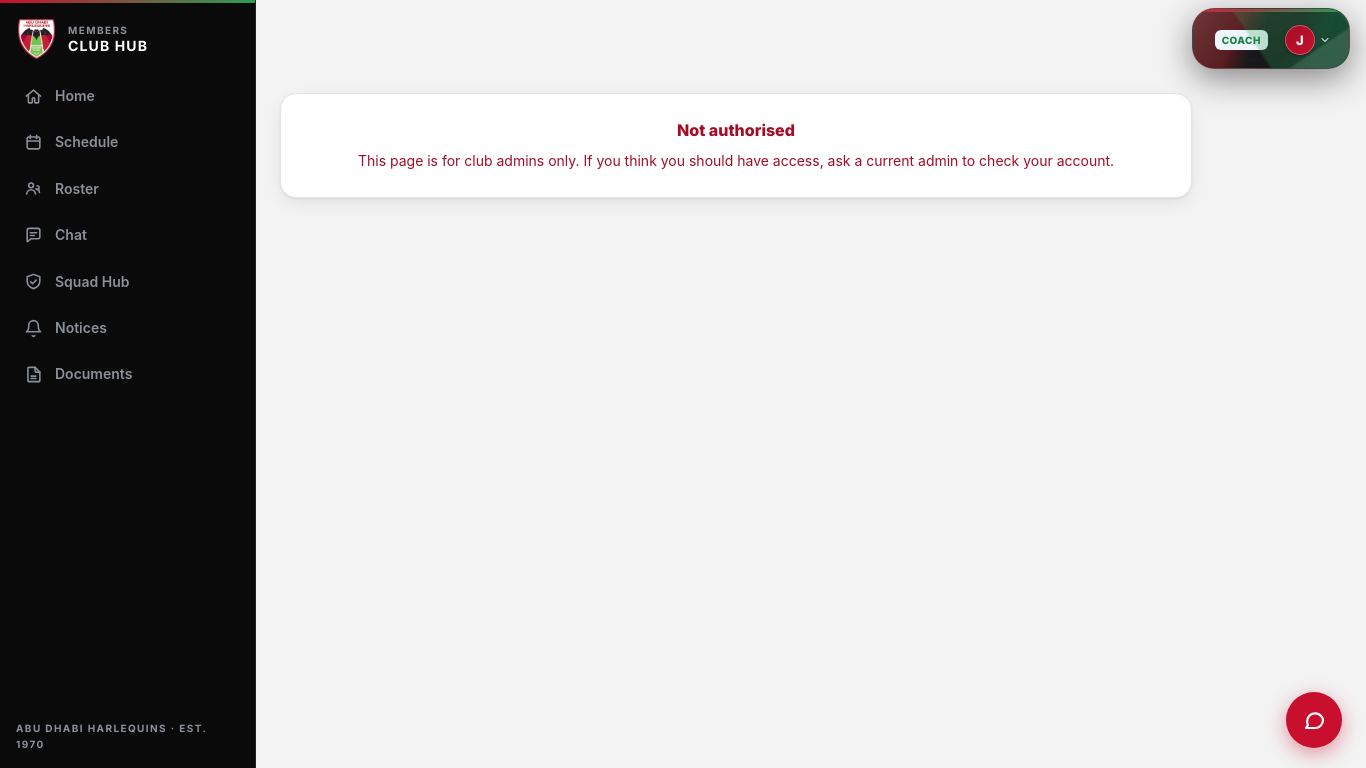
Scenario: View as, reached through the account menu › is offered to an active coach — parent persona, own squad only
Click the button with test id "account-button": [1310, 40] box [1282, 22, 1337, 58]
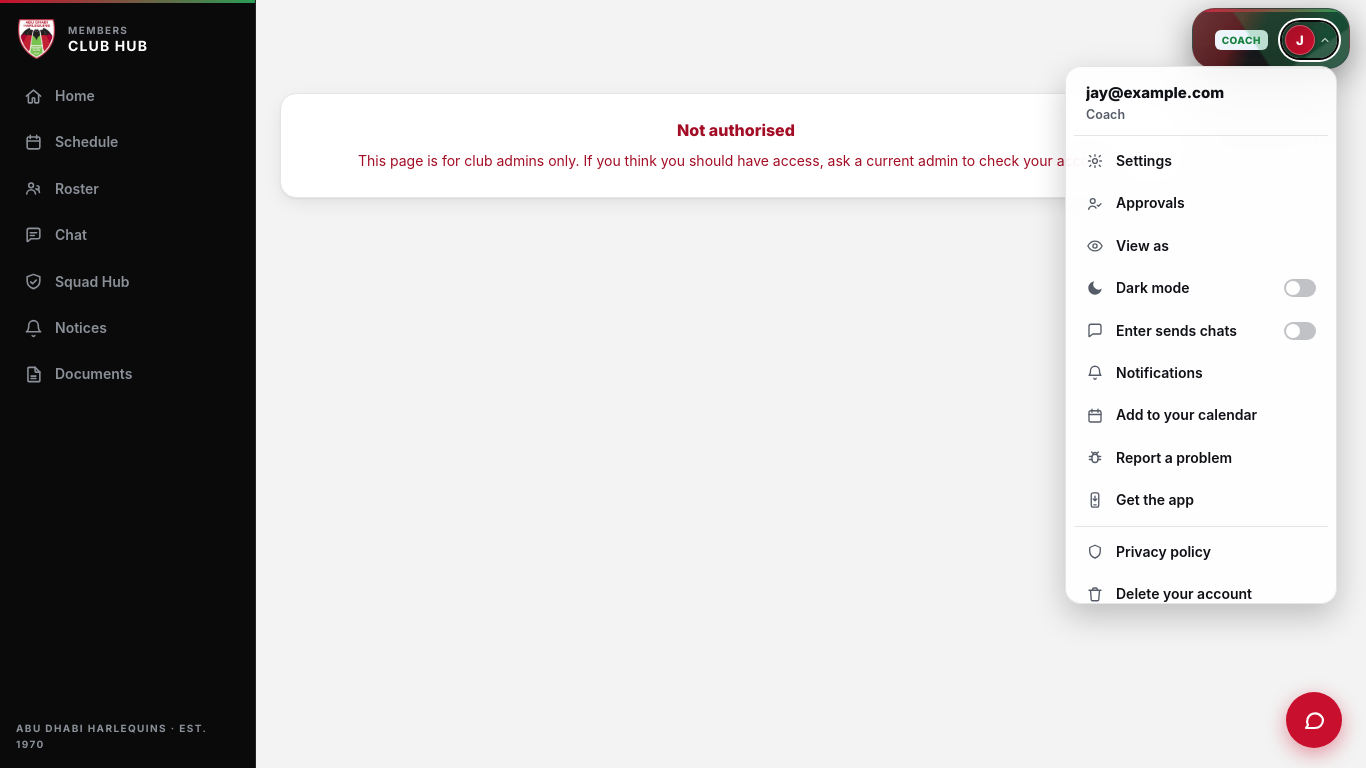
Click the menu item with test id "view-as-trigger": [1201, 246] box [1074, 225, 1328, 267]
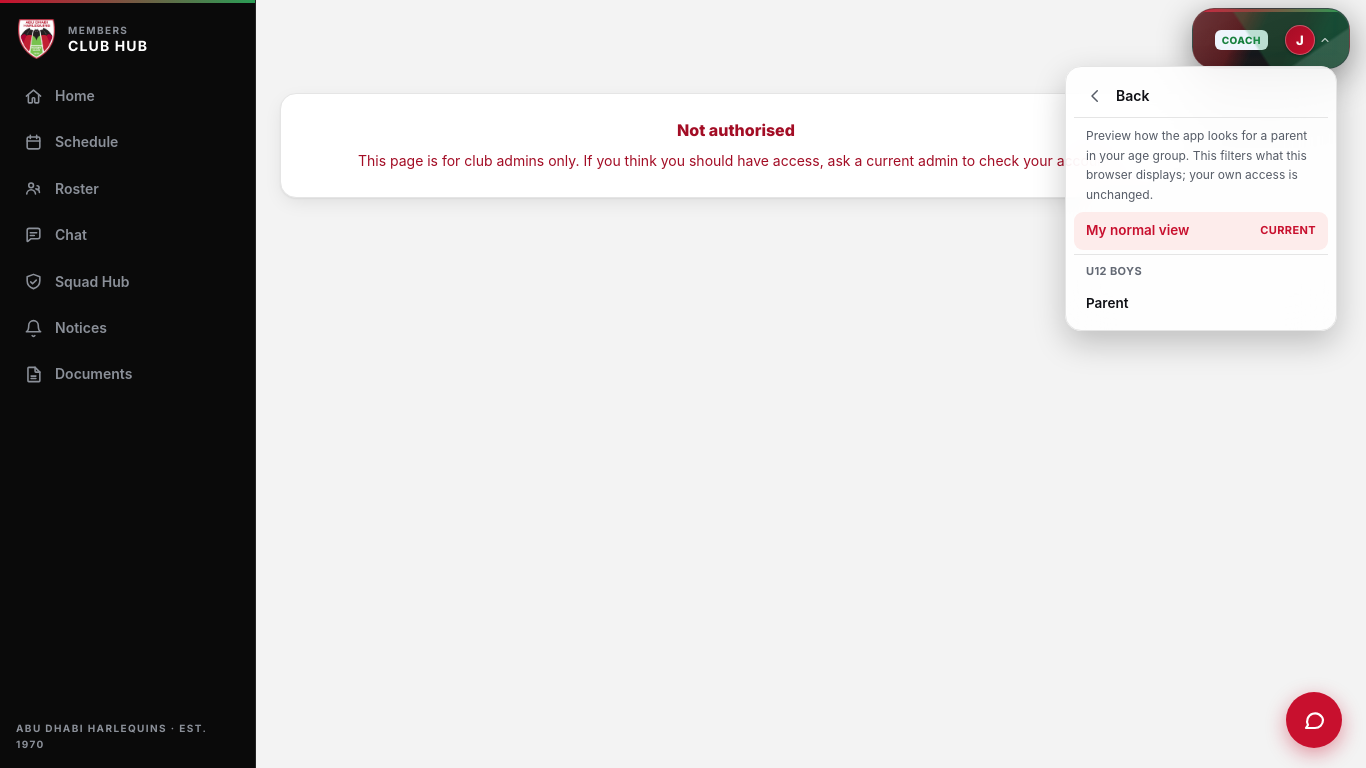
expect the menu item with aria-label "Parent in U12 Boys" is shown: met, box [1074, 285, 1328, 322]
expect the menu item "My normal view Current" is shown: met, box [1074, 212, 1328, 250]
